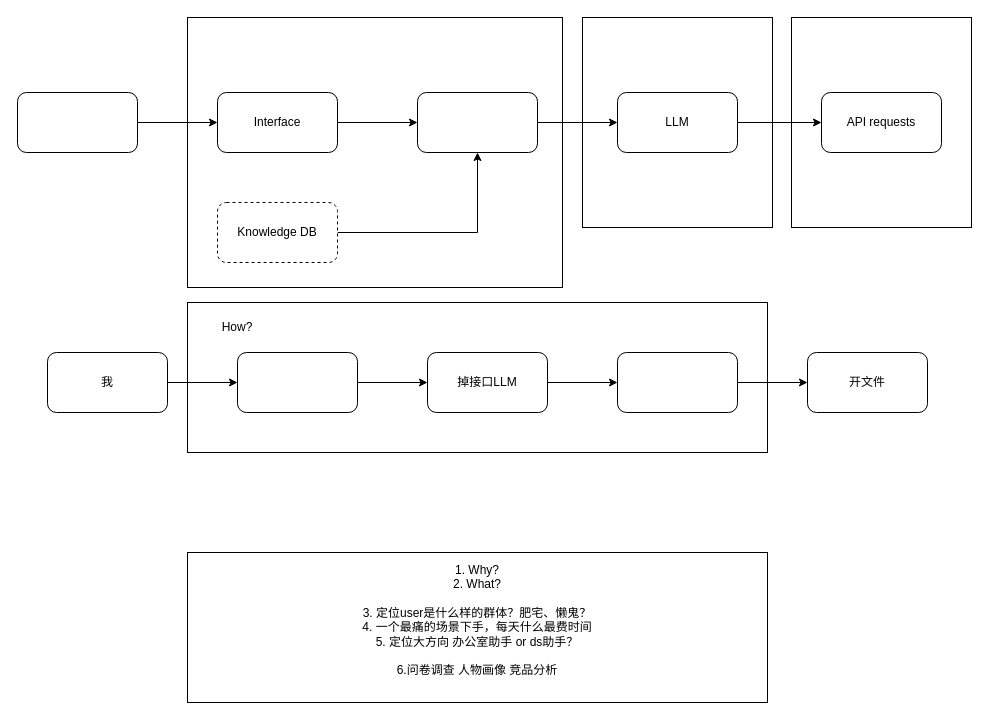
Image size: 989x720. Some labels were removed from this diagram. Here are the shapes that lost their labels. From the top down, the centre of each, then its label:
point (77, 122): User
point (477, 122): Control Panel
point (297, 382): 输入需求
point (677, 382): 找到文件地址 打开文件
